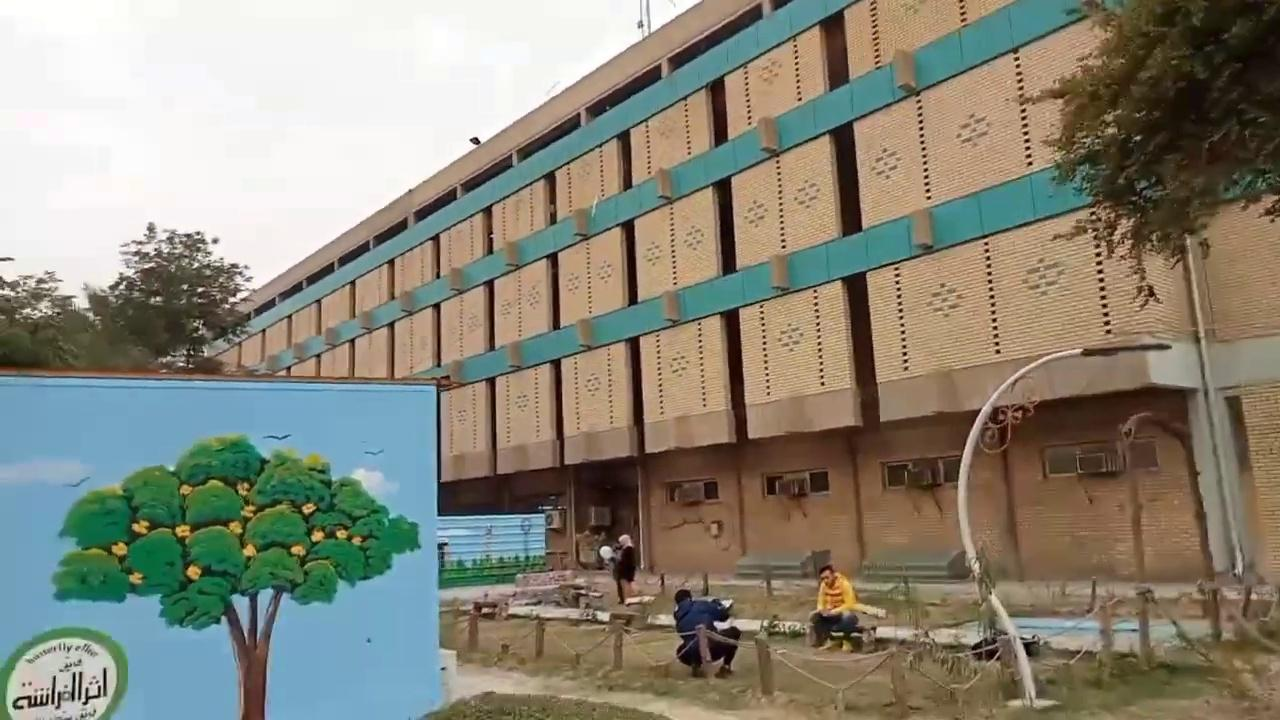person: (672, 588, 740, 678), (808, 563, 859, 652), (614, 533, 636, 604)
tree: (1015, 0, 1278, 641), (50, 431, 421, 718), (1015, 0, 1279, 312), (99, 220, 255, 372), (0, 266, 90, 370), (79, 282, 147, 370)
